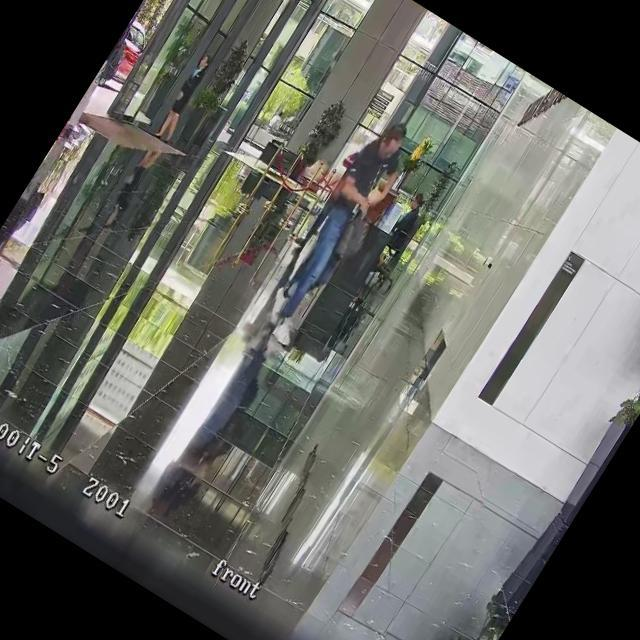person: (249, 110, 423, 350), (59, 22, 138, 138), (292, 148, 364, 252), (152, 50, 220, 144), (386, 189, 432, 248), (264, 108, 288, 137)
